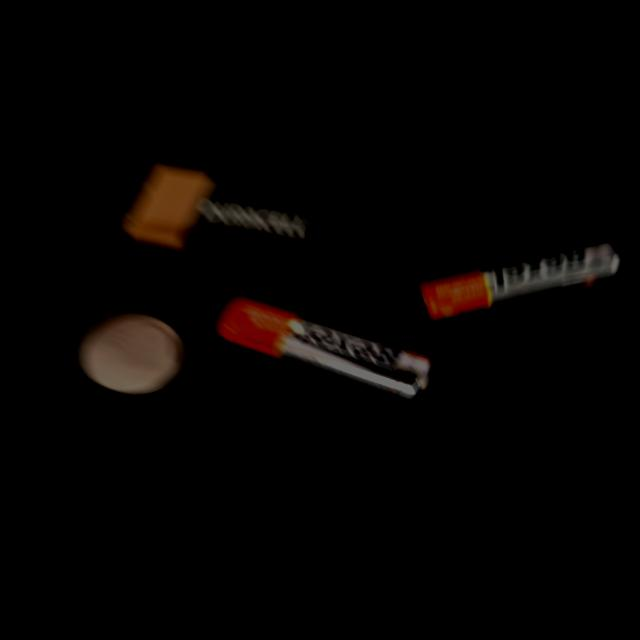9V: (260, 89, 424, 252)
AA: (105, 160, 247, 322)
AAA: (211, 312, 317, 464)
COIN: (113, 56, 224, 140)
